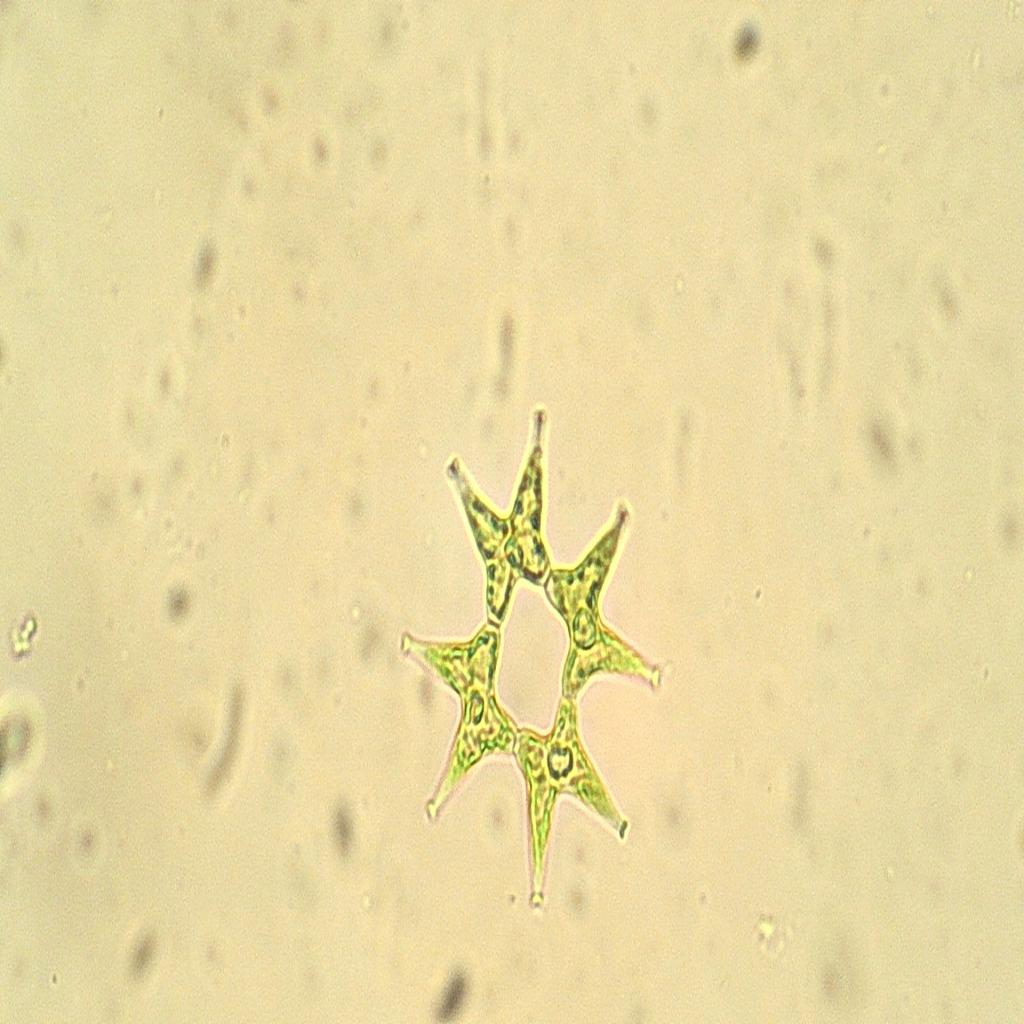Pediastrum_75O: (386, 381, 670, 927)
